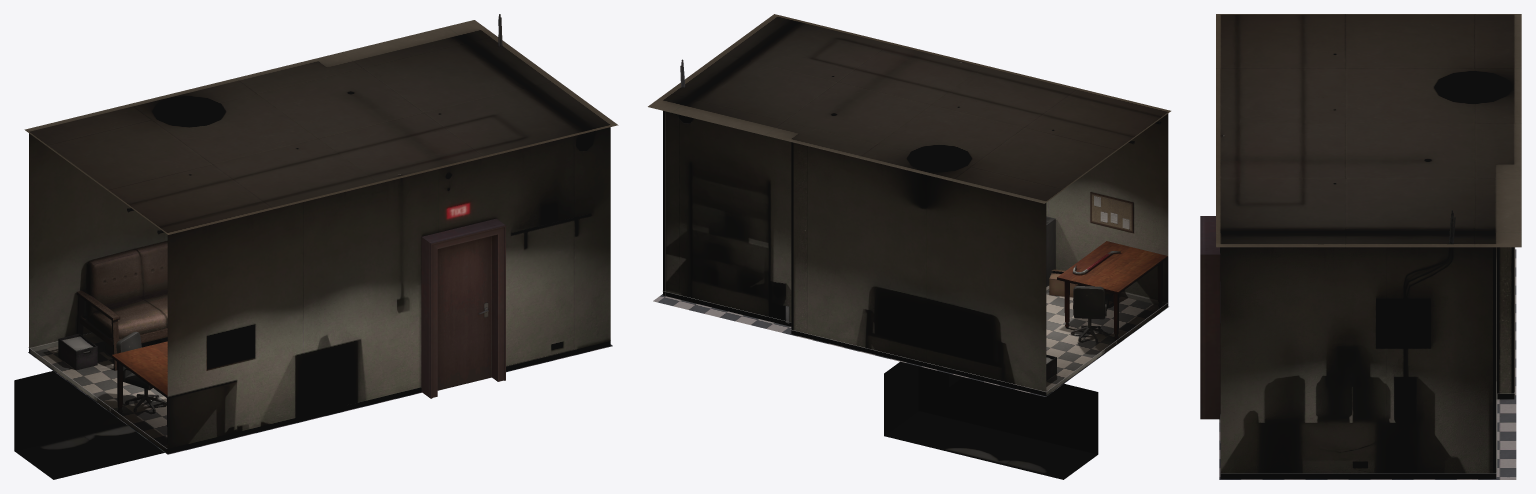
The model's file is control room 3D Model Avatar of amogusstrikesback2 amogusstrikes.glb.
The picture shows the model from 3 angles, left to right: view 1: azimuth 30°, elevation 25°; view 2: azimuth 150°, elevation 25°; view 3: azimuth 270°, elevation 25°; orthographic projection. The views are drawn at different scales.
Parts seen in each view (by area): view 1: ControlRoom_Wall_1_P1_01_mobile_0_Baked, ControlRoom_Ceiling_P1_02_mobile_0_Baked, ControlRoom_Wall_3_P1_01_mobile_0_Baked, ControlRoom_Vent_P1_02_mobile_0_Baked, IS4_P1_PuertaControl_4_IS4_TXT_P1_03_0_Baked, IS4_MDL_SalaControl_Sofa_SalaControl_Props_Mobile_0_Baked, P1_Puerta_Granate__3__P1_02_mobile_0_Baked, ControlRoom_Floor_P1_02_mobile_0_Baked, OfficeWoodTable_IS8_TXT_Office_Props_Mobile_0_Baked, IS4_MDL_SalaControl_CajaCarton__1__1_SalaControl_Props_Mobi, OfficeChair_IS8_TXT_Office_Props_Mobile_0_Baked, ControlRoom_FloorTrim_4_P1_01_mobile_0_Baked; view 2: ControlRoom_Wall_3_P1_01_mobile_0_Baked, ControlRoom_Ceiling_P1_02_mobile_0_Baked, ControlRoom_Vent_P1_02_mobile_0_Baked, ControlRoom_Wall_1_P1_01_mobile_0_Baked, ControlRoom_Floor_P1_02_mobile_0_Baked, OfficeWoodTable_IS8_TXT_Office_Props_Mobile_0_Baked, OfficeChair_IS8_TXT_Office_Props_Mobile_0_Baked, Office_CubicleBoard_IS8_TXT_Office_Props_Mobile_0_Baked, ControlRoom_FloorTrim_4_P1_01_mobile_0_Baked, ControlRoom_WallTrim_1_P1_01_mobile_0_Baked, IS4_MDL_SalaControl_CajaCarton__1__1_SalaControl_Props_Mobi, Office_FilesCabinet_IS8_TXT_Office_Props_Mobile_0_Baked; view 3: ControlRoom_Ceiling_P1_02_mobile_0_Baked, ControlRoom_Wall_2_P1_01_mobile_0_Baked, P1_Puerta_Granate__3__P1_02_mobile_0_Baked, ControlRoom_Wall_3_P1_01_mobile_0_Baked, ControlRoom_Floor_P1_02_mobile_0_Baked, ControlRoom_FloorTrim_4_P1_01_mobile_0_Baked, ControlRoom_WallTrim_1_P1_01_mobile_0_Baked.
Boxes of the visible parts, x1,y1,x2,y2 form: ControlRoom_Wall_1_P1_01_mobile_0_Baked: (167, 127, 610, 453); ControlRoom_Ceiling_P1_02_mobile_0_Baked: (24, 20, 618, 234); ControlRoom_Wall_3_P1_01_mobile_0_Baked: (29, 133, 167, 352); ControlRoom_Vent_P1_02_mobile_0_Baked: (14, 343, 164, 479); IS4_P1_PuertaControl_4_IS4_TXT_P1_03_0_Baked: (437, 236, 491, 390); IS4_MDL_SalaControl_Sofa_SalaControl_Props_Mobile_0_Baked: (76, 240, 167, 370); P1_Puerta_Granate__3__P1_02_mobile_0_Baked: (421, 218, 505, 398); ControlRoom_Floor_P1_02_mobile_0_Baked: (28, 336, 612, 454); OfficeWoodTable_IS8_TXT_Office_Props_Mobile_0_Baked: (112, 341, 167, 447); IS4_MDL_SalaControl_CajaCarton__1__1_SalaControl_Props_Mobi: (58, 333, 97, 370); OfficeChair_IS8_TXT_Office_Props_Mobile_0_Baked: (116, 331, 166, 412); ControlRoom_FloorTrim_4_P1_01_mobile_0_Baked: (28, 332, 421, 452); ControlRoom_Wall_3_P1_01_mobile_0_Baked: (663, 111, 1046, 396); ControlRoom_Ceiling_P1_02_mobile_0_Baked: (648, 14, 1170, 203); ControlRoom_Vent_P1_02_mobile_0_Baked: (884, 361, 1098, 479); ControlRoom_Wall_1_P1_01_mobile_0_Baked: (1046, 113, 1168, 306); ControlRoom_Floor_P1_02_mobile_0_Baked: (653, 285, 1168, 396); OfficeWoodTable_IS8_TXT_Office_Props_Mobile_0_Baked: (1057, 241, 1167, 340); OfficeChair_IS8_TXT_Office_Props_Mobile_0_Baked: (1071, 286, 1109, 342); Office_CubicleBoard_IS8_TXT_Office_Props_Mobile_0_Baked: (1090, 192, 1133, 232); ControlRoom_FloorTrim_4_P1_01_mobile_0_Baked: (662, 291, 1168, 395); ControlRoom_WallTrim_1_P1_01_mobile_0_Baked: (665, 111, 793, 334); IS4_MDL_SalaControl_CajaCarton__1__1_SalaControl_Props_Mobi: (1046, 269, 1111, 380); Office_FilesCabinet_IS8_TXT_Office_Props_Mobile_0_Baked: (1046, 216, 1055, 286); ControlRoom_Ceiling_P1_02_mobile_0_Baked: (1216, 14, 1521, 247); ControlRoom_Wall_2_P1_01_mobile_0_Baked: (1220, 247, 1495, 478); P1_Puerta_Granate__3__P1_02_mobile_0_Baked: (1200, 216, 1220, 419); ControlRoom_Wall_3_P1_01_mobile_0_Baked: (1496, 247, 1514, 399); ControlRoom_Floor_P1_02_mobile_0_Baked: (1219, 249, 1516, 479); ControlRoom_FloorTrim_4_P1_01_mobile_0_Baked: (1220, 247, 1515, 473); ControlRoom_WallTrim_1_P1_01_mobile_0_Baked: (1496, 247, 1514, 477).
Bounding box in the file's own units: 6.87 × 4.85 × 3.86.
41 materials, 41 textured.
